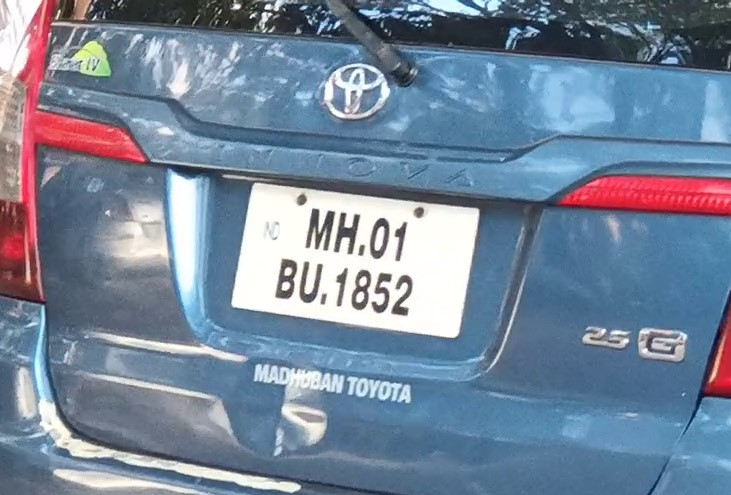MH01BU1852: (230, 173, 479, 338)
